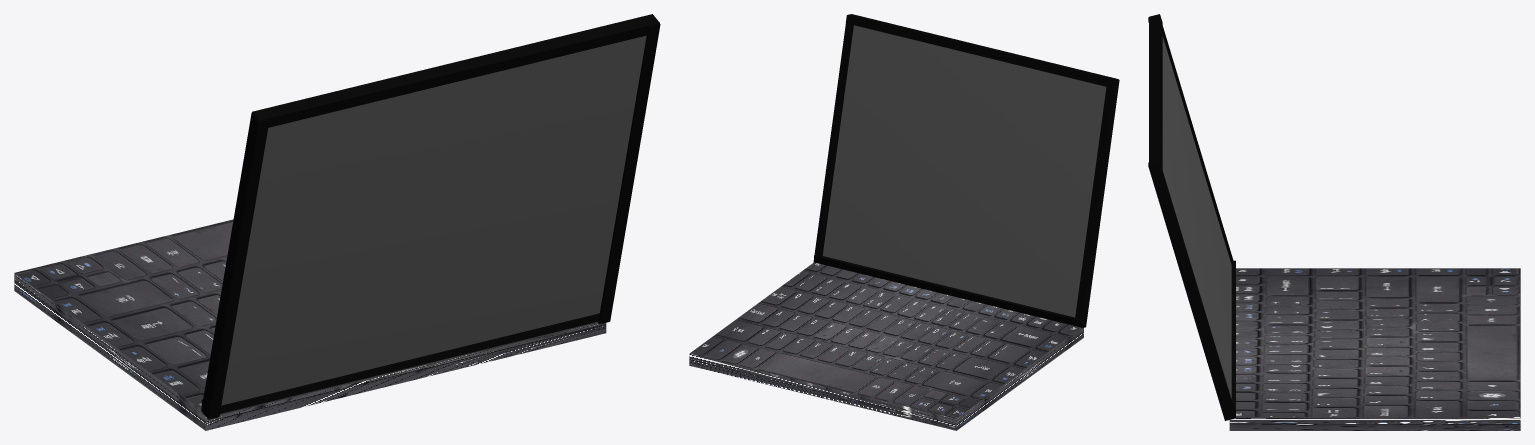
File: computer.glb
3 views of the same model, side by side, from view 1: azimuth 30°, elevation 25°; view 2: azimuth 150°, elevation 25°; view 3: azimuth 270°, elevation 25° (orthographic). The views are drawn at different scales.
Visible parts, largest first — view 1: Cube.073, Cube.074, Cube.078, Cube.076, Cube.075, Cube.077; view 2: Cube.073, Cube.074, Cube.076, Cube.078, Cube.077, Cube.075; view 3: Cube.074, Cube.073, Cube.075, Cube.078, Cube.076, Cube.077.
Boxes of the visible parts, x1,y1,x2,y2 form: Cube.073: (219,35,646,414); Cube.074: (14,219,606,430); Cube.078: (252,14,659,127); Cube.076: (201,113,269,419); Cube.075: (598,24,660,324); Cube.077: (201,313,599,413); Cube.073: (822,25,1106,317); Cube.074: (689,262,1083,430); Cube.076: (1075,80,1119,328); Cube.078: (845,14,1118,88); Cube.077: (814,255,1081,327); Cube.075: (813,23,853,262); Cube.074: (1229,268,1520,430); Cube.073: (1162,36,1231,398); Cube.075: (1148,162,1235,420); Cube.078: (1149,14,1162,171); Cube.076: (1148,17,1233,264); Cube.077: (1231,260,1235,416).
Size of the model in its own units: 0.4611 by 0.3867 by 0.486.
Materials: 3 (1 with a texture image).
